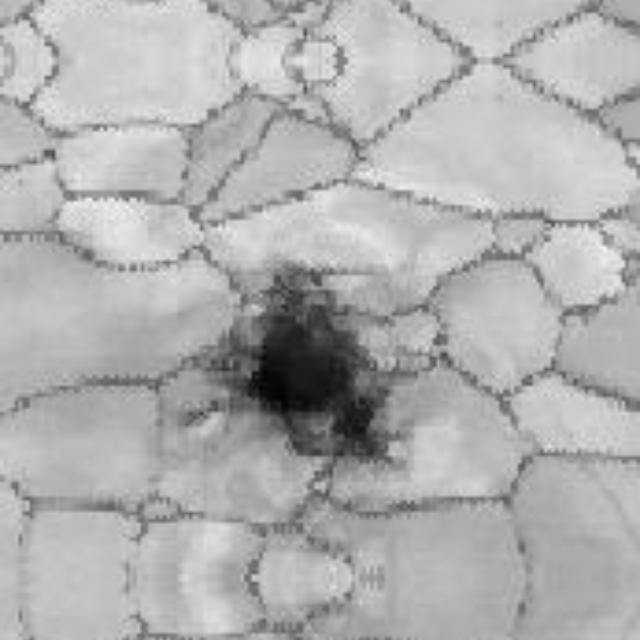good_void: (176, 262, 409, 471)
